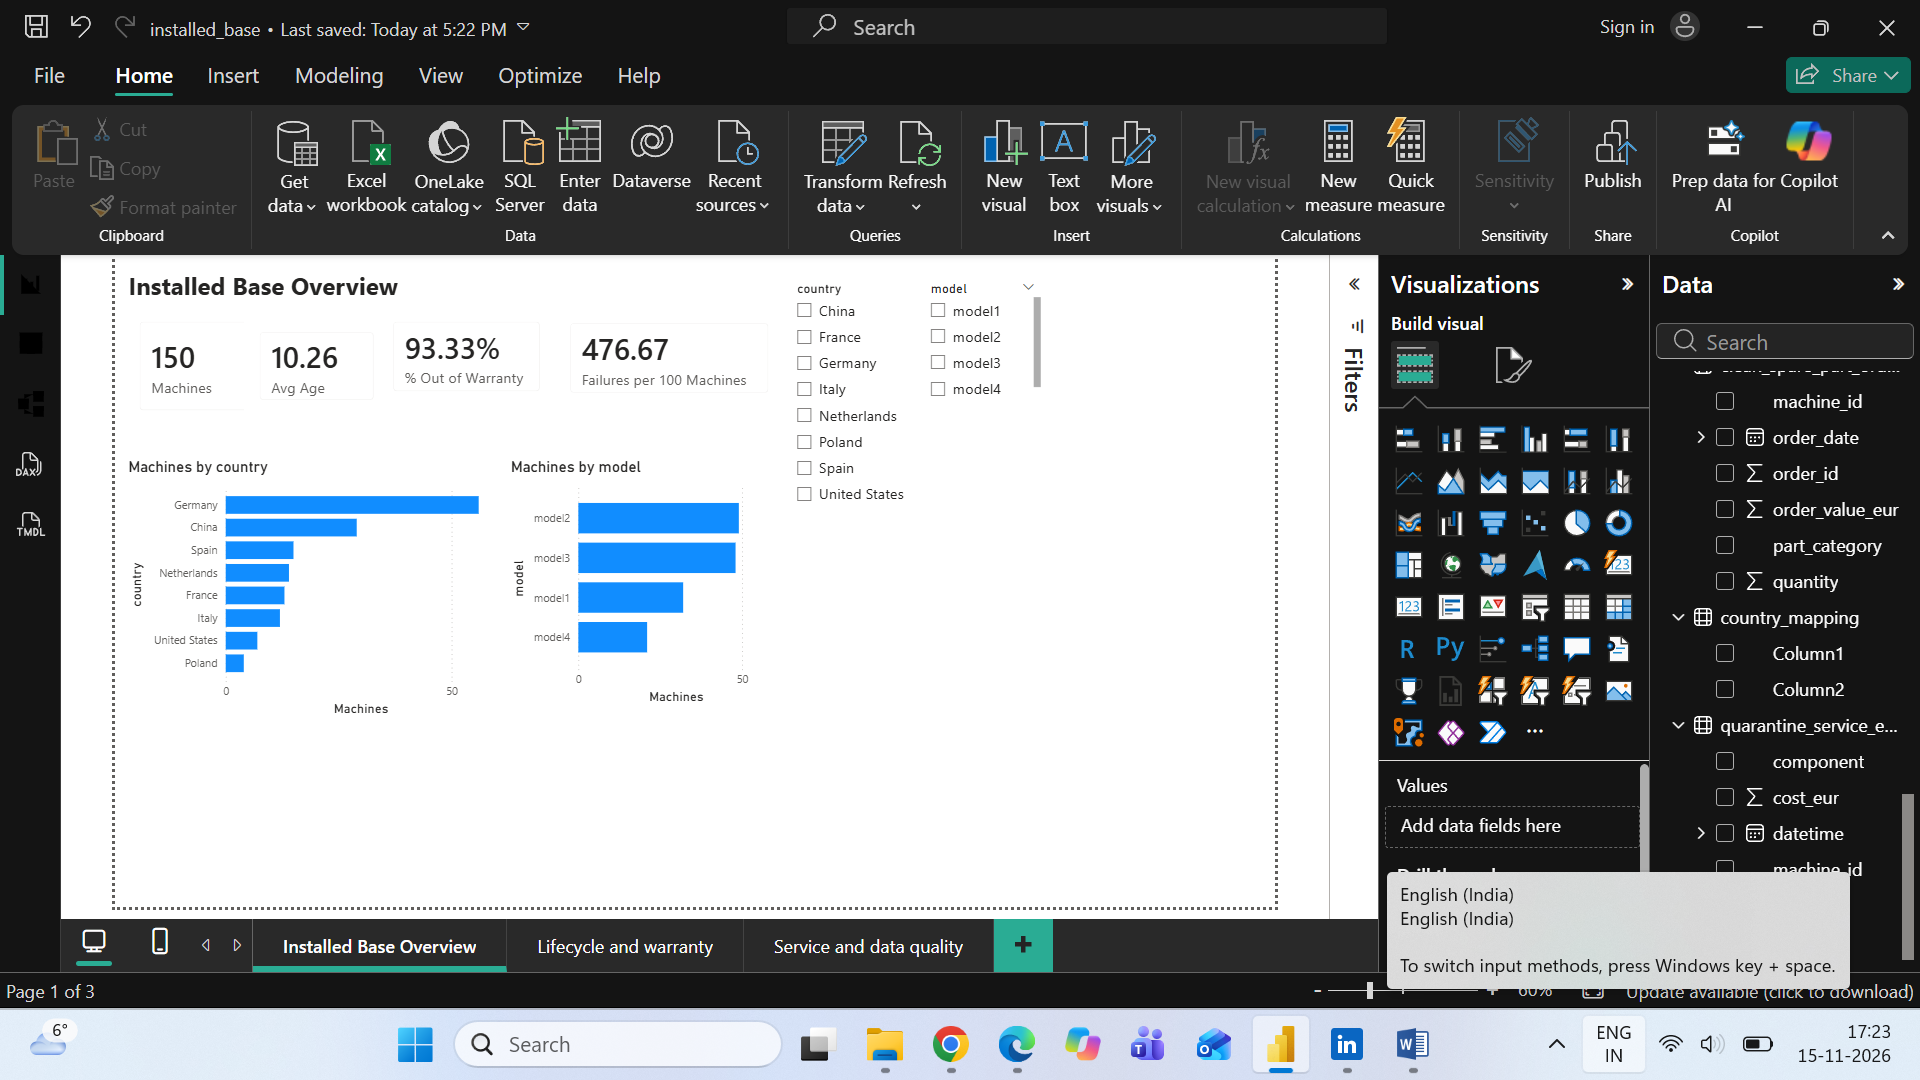

The dashboard page shown, as its layout file describes it:
{"tool":"powerbi","page":{"name":"Installed Base Overview","canvas":[1280,720],"ordinal":0},"visuals":[{"type":"cardVisual","fields":{"Data":["clean_machines.Machines"]},"box":[9.4,56.7,153.1,132.3],"z":0},{"type":"cardVisual","fields":{"Data":["clean_machines.Avg Age"]},"box":[141.7,68,160.6,109.6],"z":1000},{"type":"cardVisual","fields":{"Data":["clean_machines.% Out of Warranty"]},"box":[289.1,56.7,196.5,111.5],"z":2000},{"type":"cardVisual","fields":{"Data":["clean_machines.Failures per 100 Machines"]},"box":[485.7,58.6,253.2,111.5],"z":3000},{"type":"clusteredBarChart","fields":{"Category":["clean_customers.country"],"Y":["clean_machines.Machines"]},"box":[9.4,223,423.3,289.1],"z":4000},{"type":"clusteredBarChart","fields":{"Category":["clean_machines.model"],"Y":["clean_machines.Machines"]},"box":[432.8,223,308,275.9],"z":5000},{"type":"slicer","fields":{"Values":["clean_customers.country"]},"box":[740.8,22.7,211.7,260.8],"z":6000},{"type":"slicer","fields":{"Values":["clean_machines.model"]},"box":[888.2,22.7,139.8,139.8],"z":7000},{"type":"textbox","box":[9.4,9.4,308,47.2],"z":8000}]}

Visuals, with their boxes on the page's 1280x720 design canvas (x1, y1, x2, y2). These are canvas units, not pixel positions in the 1920x1080 screenshot, which may show the page scaled, cropped or inside an application window:
cardVisual - clean_machines.Machines: x1=9 y1=57 x2=162 y2=189
cardVisual - clean_machines.Avg Age: x1=142 y1=68 x2=302 y2=178
cardVisual - clean_machines.% Out of Warranty: x1=289 y1=57 x2=486 y2=168
cardVisual - clean_machines.Failures per 100 Machines: x1=486 y1=59 x2=739 y2=170
clusteredBarChart - clean_customers.country x clean_machines.Machines: x1=9 y1=223 x2=433 y2=512
clusteredBarChart - clean_machines.model x clean_machines.Machines: x1=433 y1=223 x2=741 y2=499
slicer - clean_customers.country: x1=741 y1=23 x2=952 y2=284
slicer - clean_machines.model: x1=888 y1=23 x2=1028 y2=162
textbox: x1=9 y1=9 x2=317 y2=57
